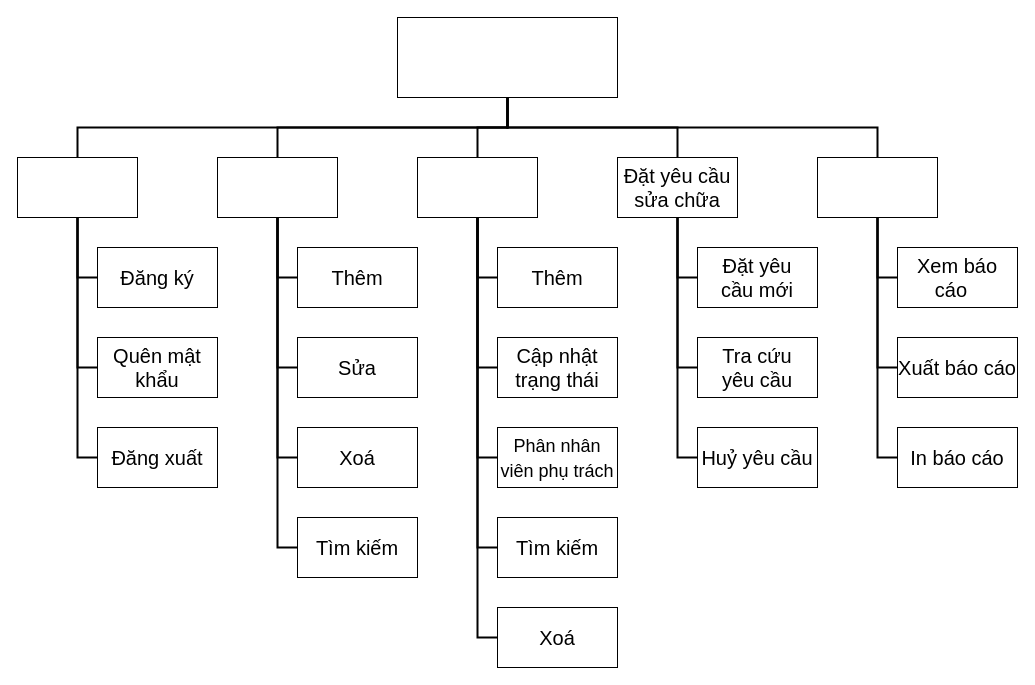
Some shapes in this 1035 by 685 pixel diagram are drawn without their labels. Each missing label, with the centre of its shape:
Báo cáo thống kê: the point at 877,187
Quản lý tài khoản: the point at 277,187
Quản lý yêu cầu: the point at 477,187
Website Đặt Lịch Sửa Chữa và bảo hành: the point at 507,57
Đăng nhập: the point at 77,187
